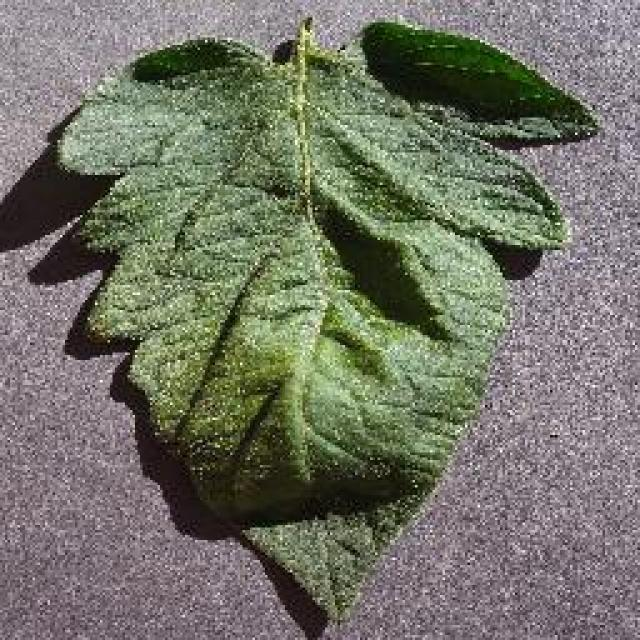Tomato___healthy: (52, 11, 606, 623)
